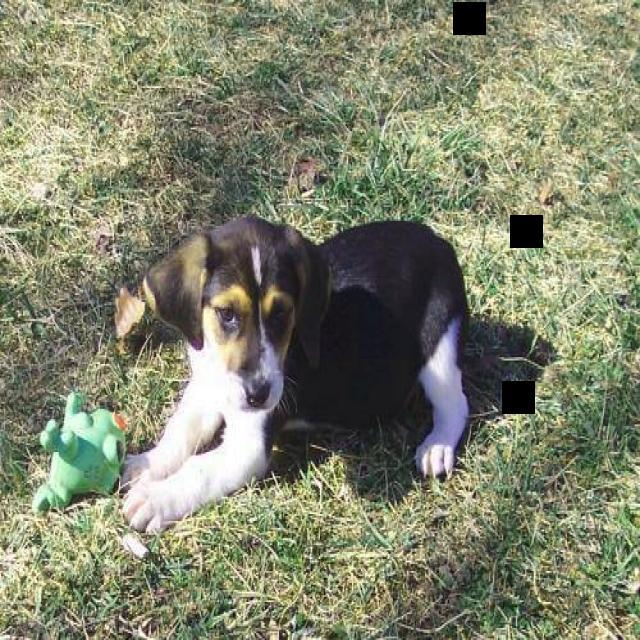puppy-dog: (108, 212, 482, 535)
